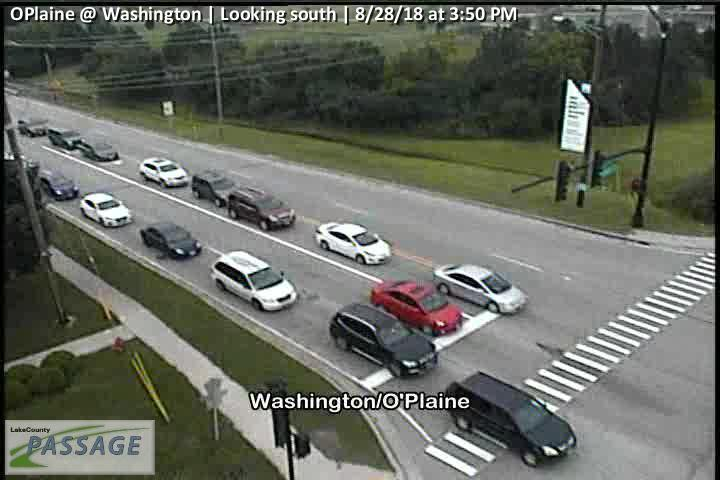SUV: (444, 369, 578, 468), (328, 301, 439, 379), (211, 249, 300, 313), (225, 186, 297, 232), (190, 169, 243, 209), (45, 124, 82, 151)
Sedan: (368, 279, 464, 335), (433, 261, 529, 314), (314, 218, 394, 265), (139, 221, 202, 260), (79, 191, 133, 227), (138, 156, 189, 189), (32, 166, 79, 201), (74, 136, 119, 161)
